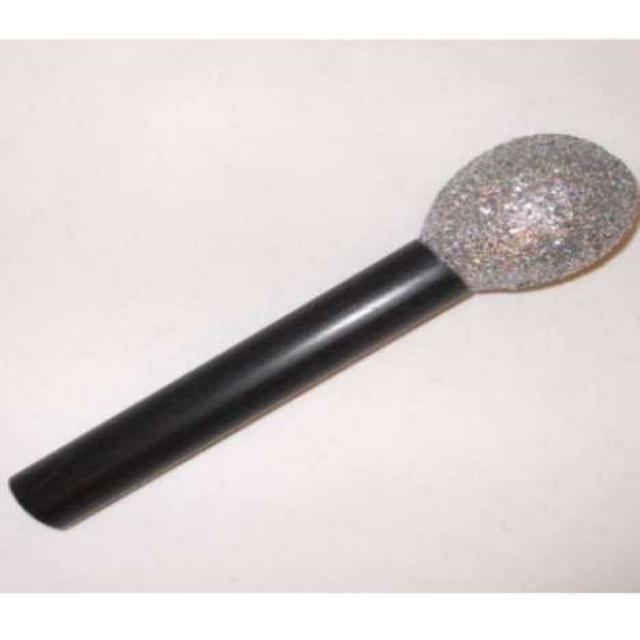microphone: (115, 131, 640, 493)
